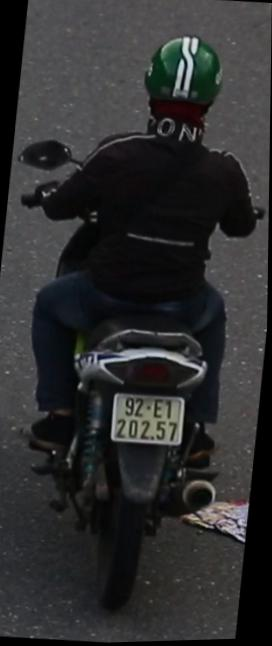LP: (105, 382, 191, 451)
helmet: (135, 28, 229, 153)
